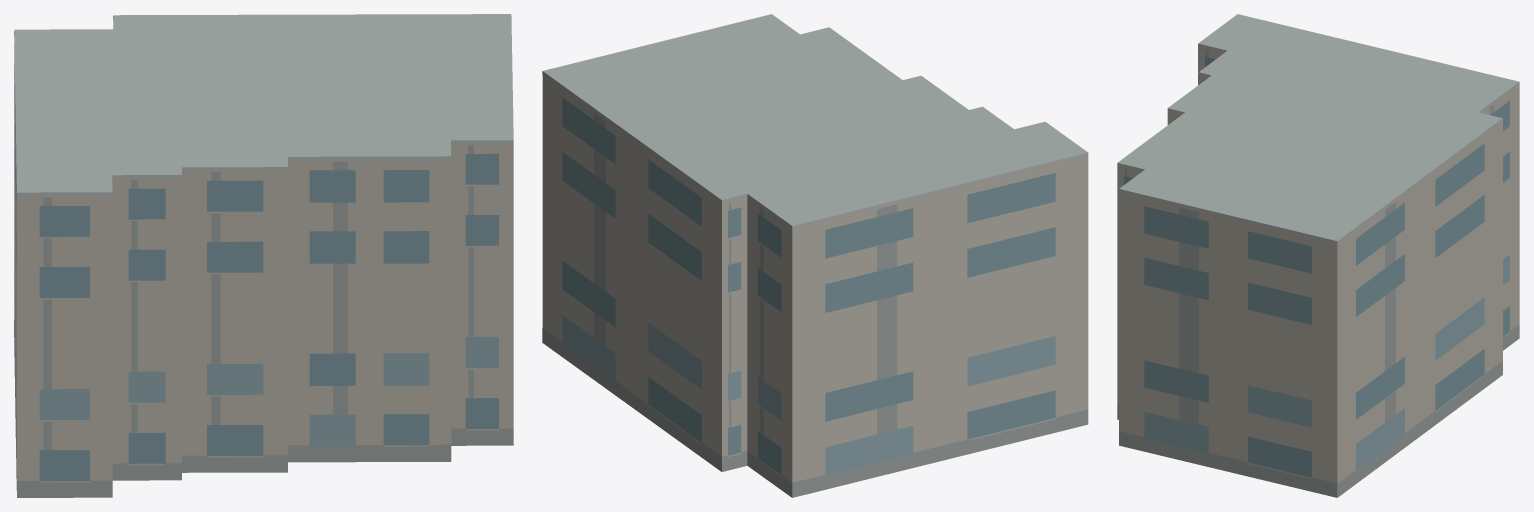
The model's file is residential-ab424bfe-3372-48ba-90cb-9000c52c25b6.glb.
3 renders of one model, left to right at view 1: azimuth 30°, elevation 25°; view 2: azimuth 150°, elevation 25°; view 3: azimuth 270°, elevation 25°, orthographic. The views are drawn at different scales.
Visible parts, largest first — view 1: residential-ab424bfe-3372-48ba-90cb-9000c52c25b6.tmp; view 2: residential-ab424bfe-3372-48ba-90cb-9000c52c25b6.tmp; view 3: residential-ab424bfe-3372-48ba-90cb-9000c52c25b6.tmp.
Part boxes in pixels (x1=…): residential-ab424bfe-3372-48ba-90cb-9000c52c25b6.tmp: x1=14, y1=14, x2=513, y2=497; residential-ab424bfe-3372-48ba-90cb-9000c52c25b6.tmp: x1=542, y1=14, x2=1088, y2=497; residential-ab424bfe-3372-48ba-90cb-9000c52c25b6.tmp: x1=1117, y1=14, x2=1519, y2=497.
Bounding box in the file's own units: 28.95 × 15.25 × 21.66.
